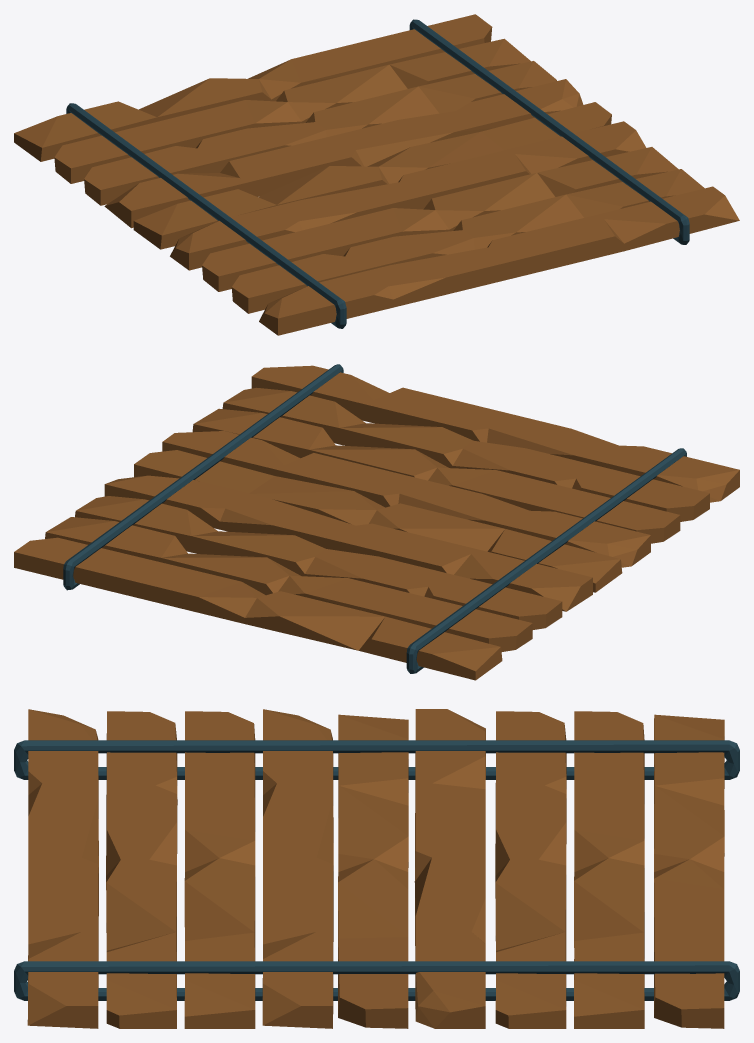
File: StoreBridge.fbx
The picture shows the model from 3 angles, top to bottom: view 1: azimuth 30°, elevation 25°; view 2: azimuth 150°, elevation 25°; view 3: azimuth 270°, elevation 25°; orthographic projection. The views are drawn at different scales.
Parts seen in each view (by area): view 1: Bridge; view 2: Bridge; view 3: Bridge.
Boxes of the visible parts, <box> form: Bridge: <box>14,14,739,335</box>; Bridge: <box>14,364,739,680</box>; Bridge: <box>14,709,739,1028</box>.
Bounding box in the file's own units: 397 × 24.45 × 410.
